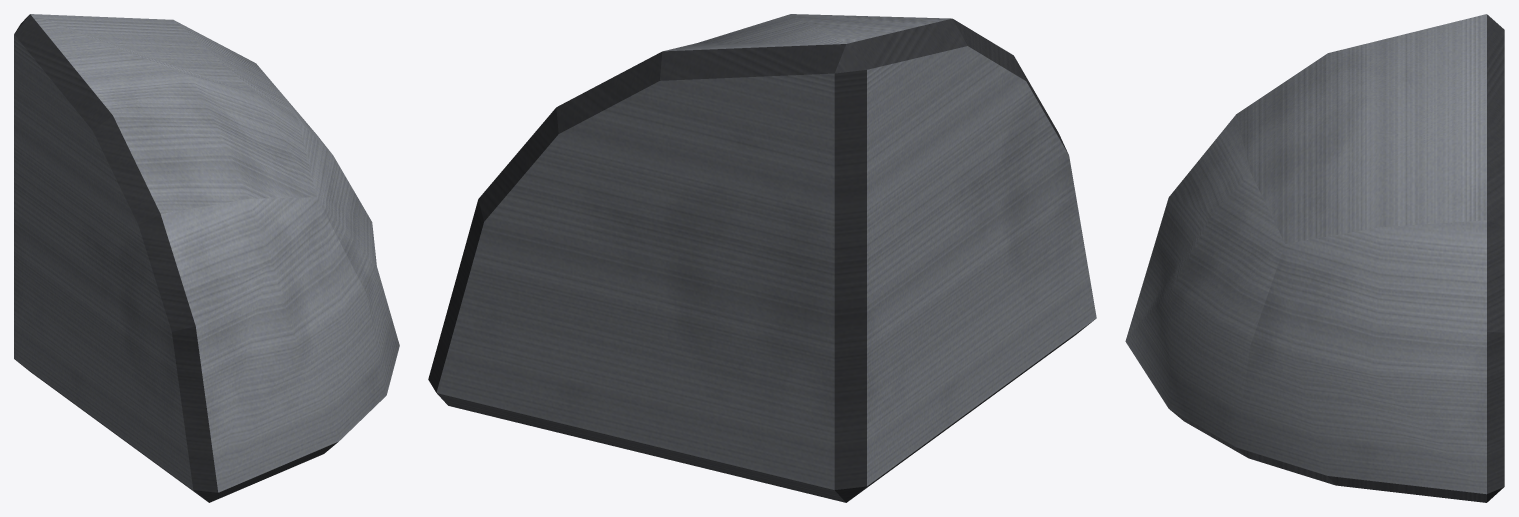
File: R4B_RoundCorner_LOD1.glb
The picture shows the model from 3 angles, left to right: view 1: azimuth 30°, elevation 25°; view 2: azimuth 150°, elevation 25°; view 3: azimuth 270°, elevation 25°; orthographic projection. The views are drawn at different scales.
Parts seen in each view (by area): view 1: R4B_RoundCorner_LOD1; view 2: R4B_RoundCorner_LOD1; view 3: R4B_RoundCorner_LOD1.
Part boxes in pixels (x1,y1,x2,y2): R4B_RoundCorner_LOD1: [14, 14, 399, 502]; R4B_RoundCorner_LOD1: [428, 14, 1096, 502]; R4B_RoundCorner_LOD1: [1125, 14, 1504, 502].
Size of the model in its own units: 0.5139 by 0.5139 by 0.5139.
2 materials, 2 textured.
